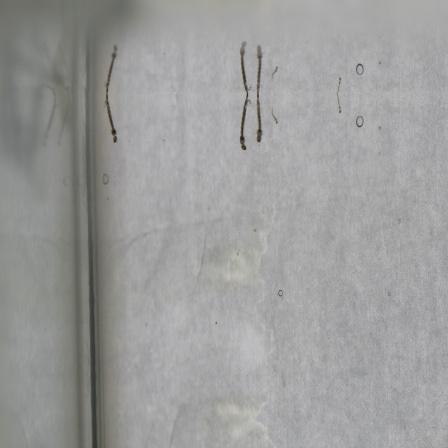Jentik-Nyamuk: (237, 92, 267, 154), (101, 91, 123, 150), (268, 105, 280, 128), (335, 93, 344, 116)
